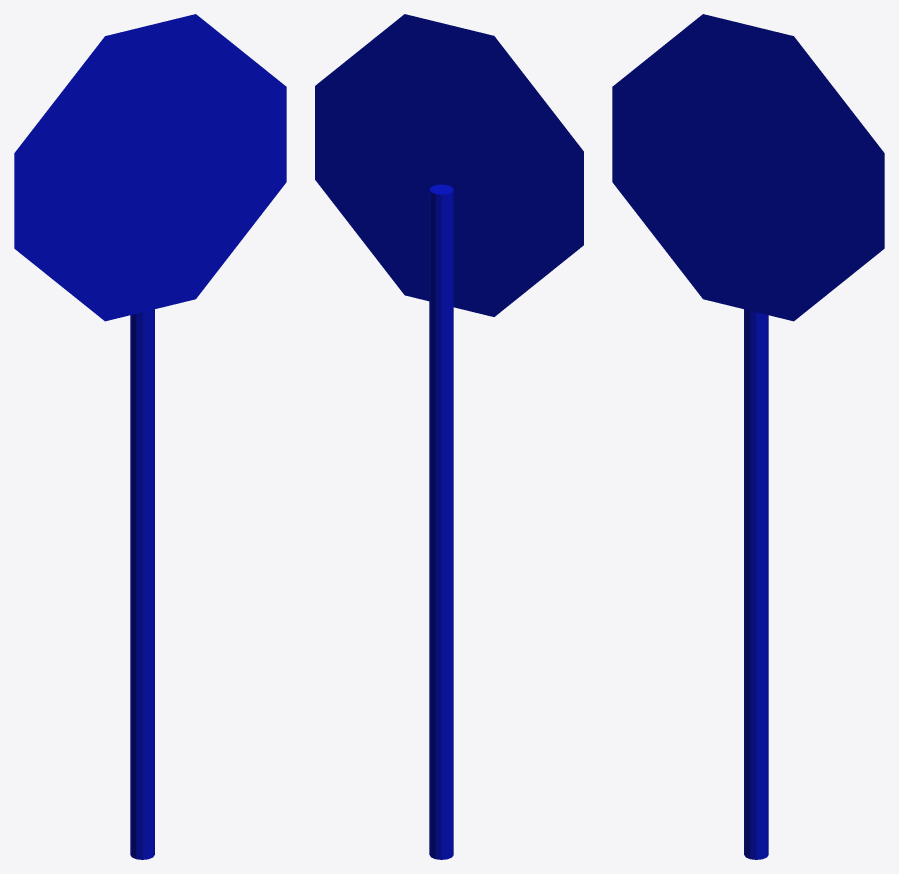
Rendered from Sign_1.fbx.
3 views of the same model, side by side, from view 1: azimuth 30°, elevation 25°; view 2: azimuth 150°, elevation 25°; view 3: azimuth 330°, elevation 25° (orthographic).
Visible parts, largest first — view 1: Sign_1; view 2: Sign_1; view 3: Sign_1.
Boxes of the visible parts, x1,y1,x2,y2 form: Sign_1: [14, 14, 286, 859]; Sign_1: [315, 14, 583, 859]; Sign_1: [612, 14, 884, 859].
Size of the model in its own units: 216 by 633 by 19.39.
